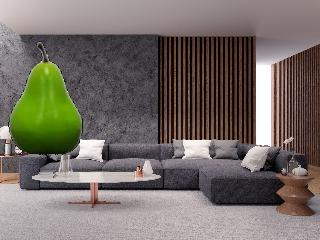pear: (6, 40, 84, 156)
